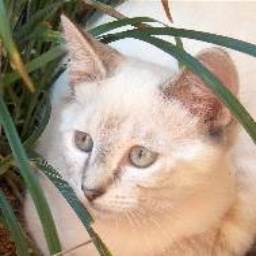cat: (25, 0, 256, 250)
